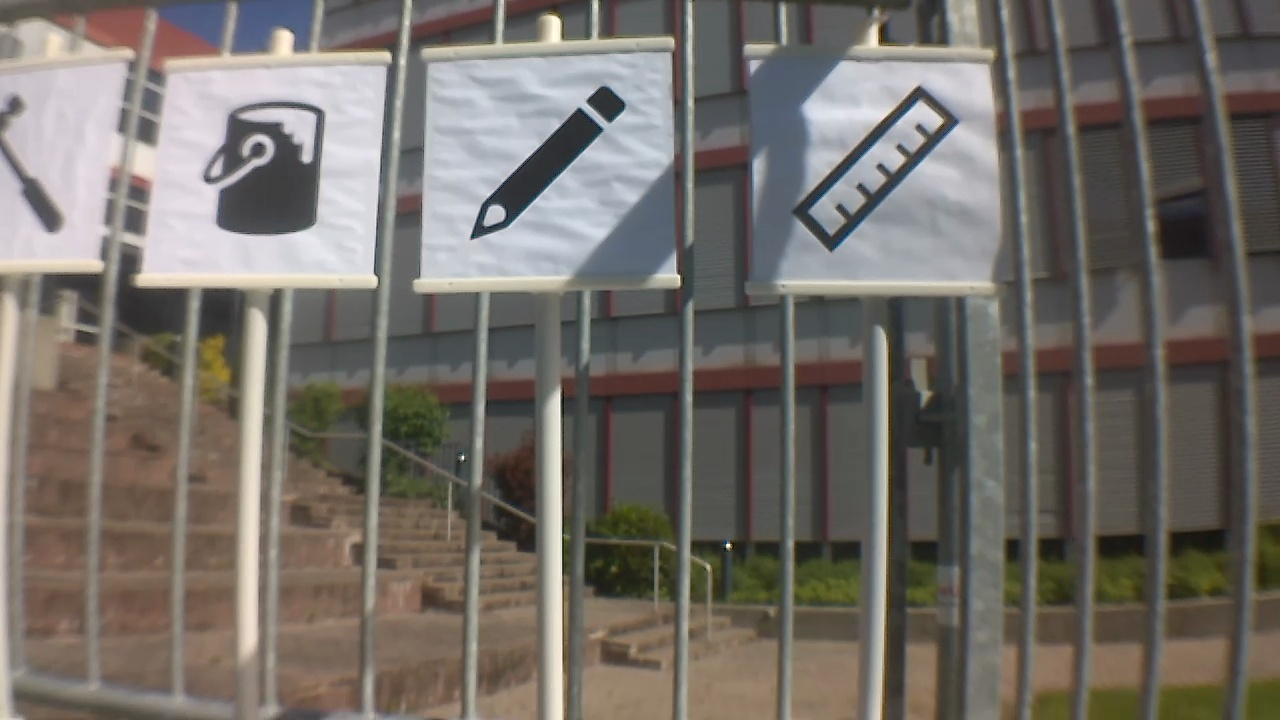bucket: (198, 90, 349, 241)
pencil: (450, 74, 635, 247)
ruler: (773, 74, 957, 261)
